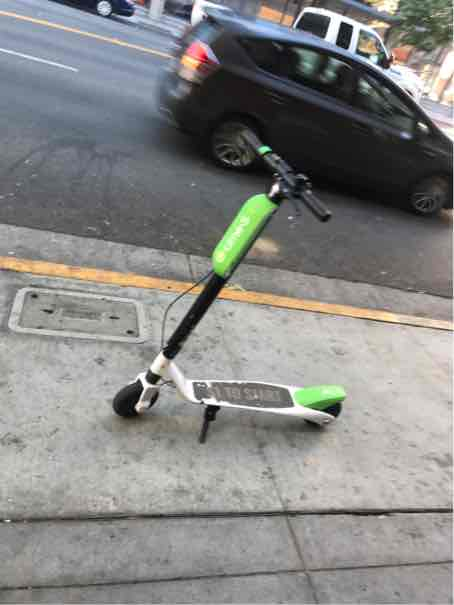scooter: (115, 120, 361, 452)
